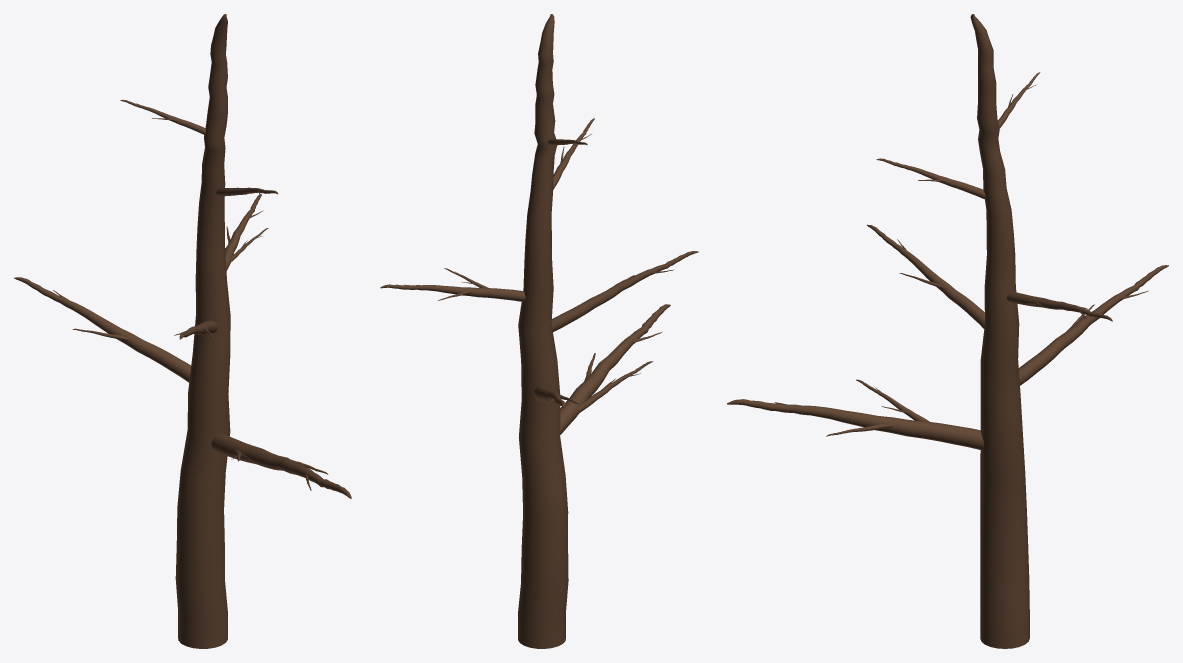
File: TreeTextured.fbx
3 renders of one model, left to right at view 1: azimuth 30°, elevation 25°; view 2: azimuth 150°, elevation 25°; view 3: azimuth 270°, elevation 25°, orthographic. The views are drawn at different scales.
Visible parts, largest first — view 1: group8_pasted__group3_pasted__pasted__group1_pasted__pasted_; view 2: group8_pasted__group3_pasted__pasted__group1_pasted__pasted_; view 3: group8_pasted__group3_pasted__pasted__group1_pasted__pasted_.
Boxes of the visible parts, x1,y1,x2,y2 form: group8_pasted__group3_pasted__pasted__group1_pasted__pasted_: (14, 14, 351, 648); group8_pasted__group3_pasted__pasted__group1_pasted__pasted_: (380, 14, 698, 648); group8_pasted__group3_pasted__pasted__group1_pasted__pasted_: (727, 14, 1168, 648).
Bounding box in the file's own units: 10.1 × 27.87 × 17.81.
